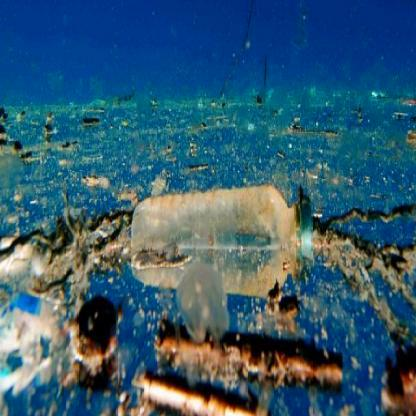Plastic: (127, 179, 314, 298)
